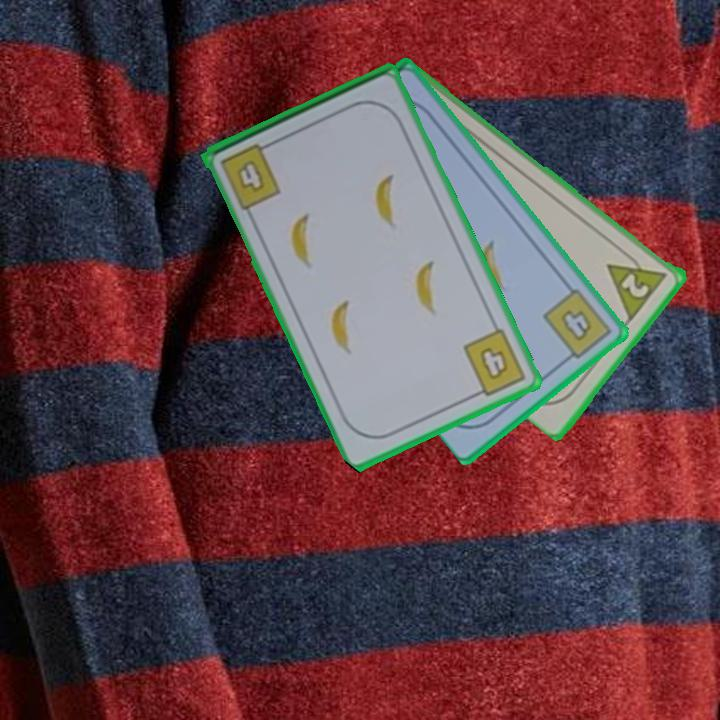2p: (603, 244, 671, 322)
4b: (539, 285, 615, 366), (459, 325, 530, 401), (216, 138, 284, 213)
